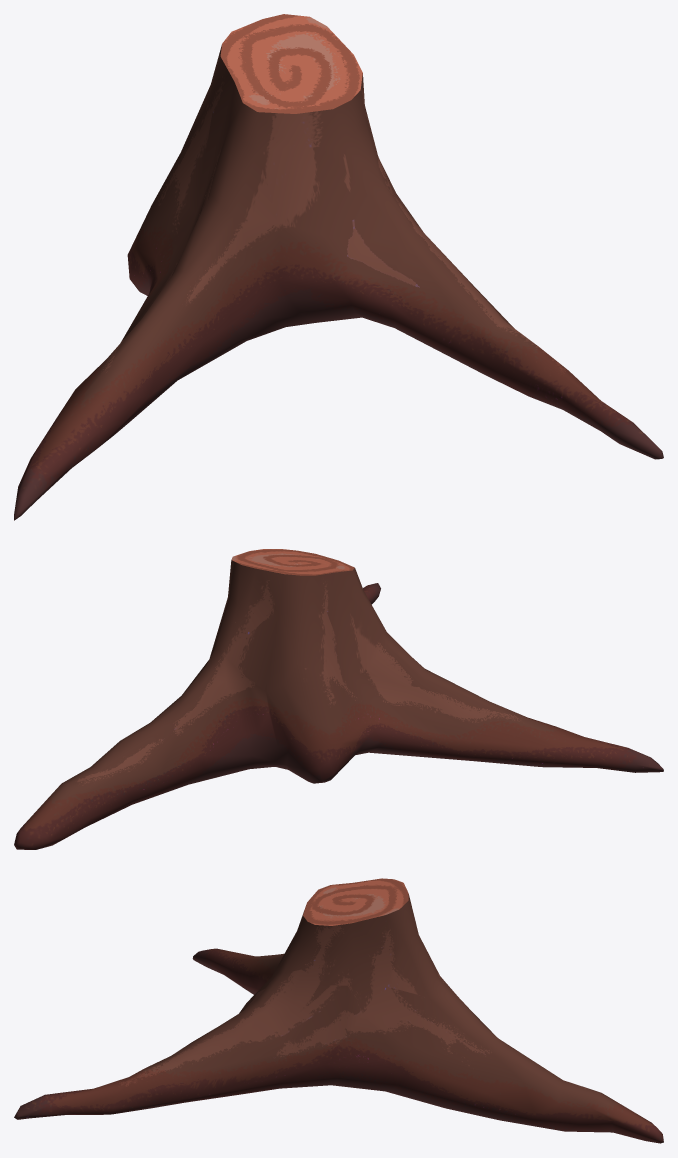
The model's file is TreeSmallTrunk.fbx.
The picture shows the model from 3 angles, top to bottom: view 1: azimuth 30°, elevation 25°; view 2: azimuth 150°, elevation 25°; view 3: azimuth 270°, elevation 25°; orthographic projection. The views are drawn at different scales.
Parts seen in each view (by area): view 1: Retopo_LP.002; view 2: Retopo_LP.002; view 3: Retopo_LP.002.
Boxes of the visible parts, x1,y1,x2,y2 form: Retopo_LP.002: (14, 14, 663, 520); Retopo_LP.002: (14, 549, 663, 849); Retopo_LP.002: (14, 878, 663, 1143).
Size of the model in its own units: 192 by 96.93 by 280.
